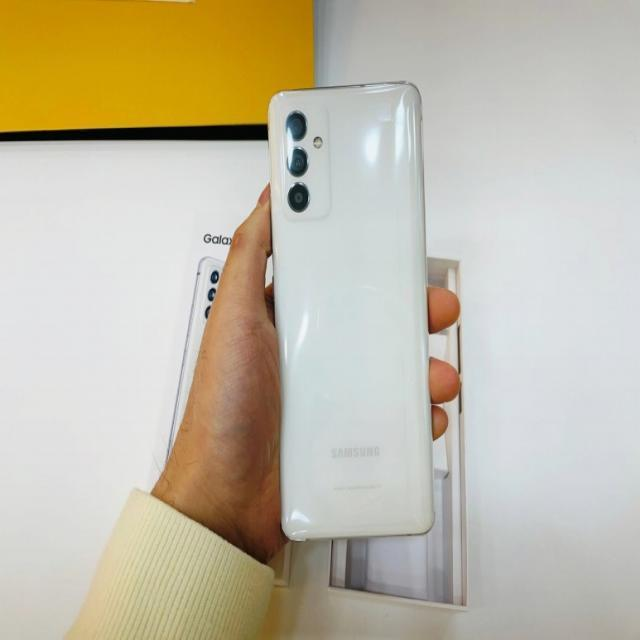phone: (270, 81, 434, 538)
